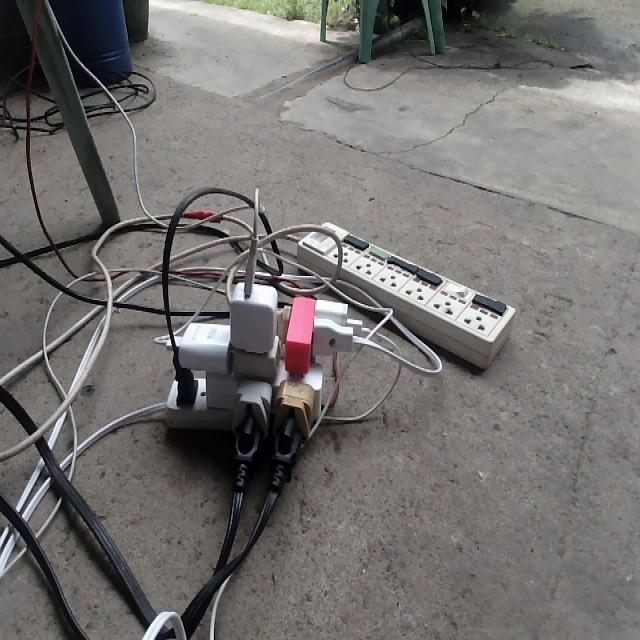-: (103, 232, 384, 513)
